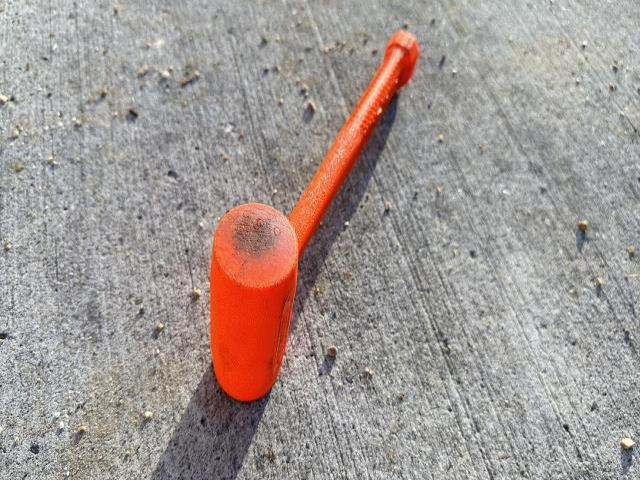hammer: (208, 31, 420, 399)
